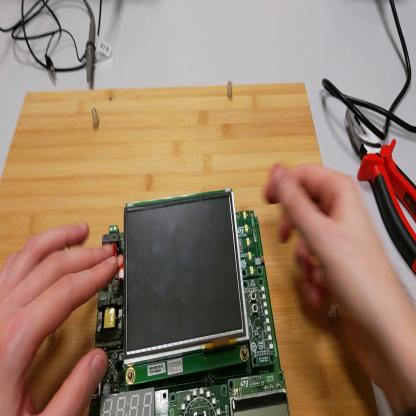hand: (265, 160, 396, 358), (2, 220, 124, 416)
low voltage board: (91, 211, 291, 415)
oscilloscope probe tip: (86, 6, 98, 85)
pliers: (345, 106, 415, 276)
working area: (1, 69, 380, 416)
